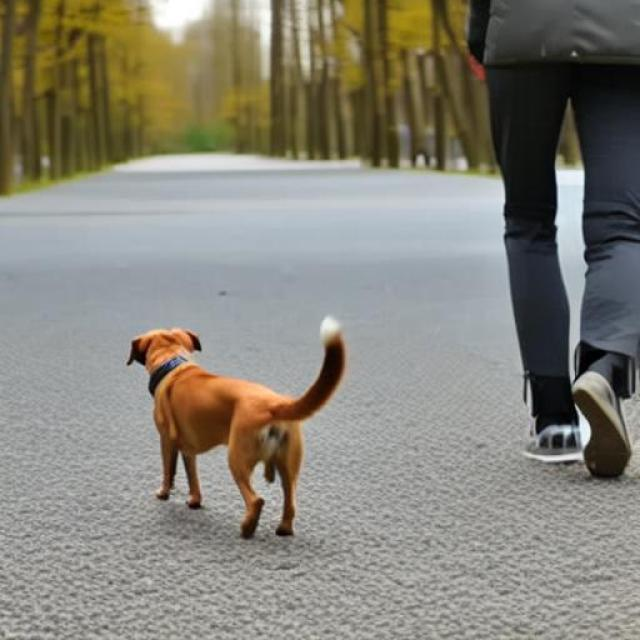Unleashed_Dog: (125, 66, 640, 538)
